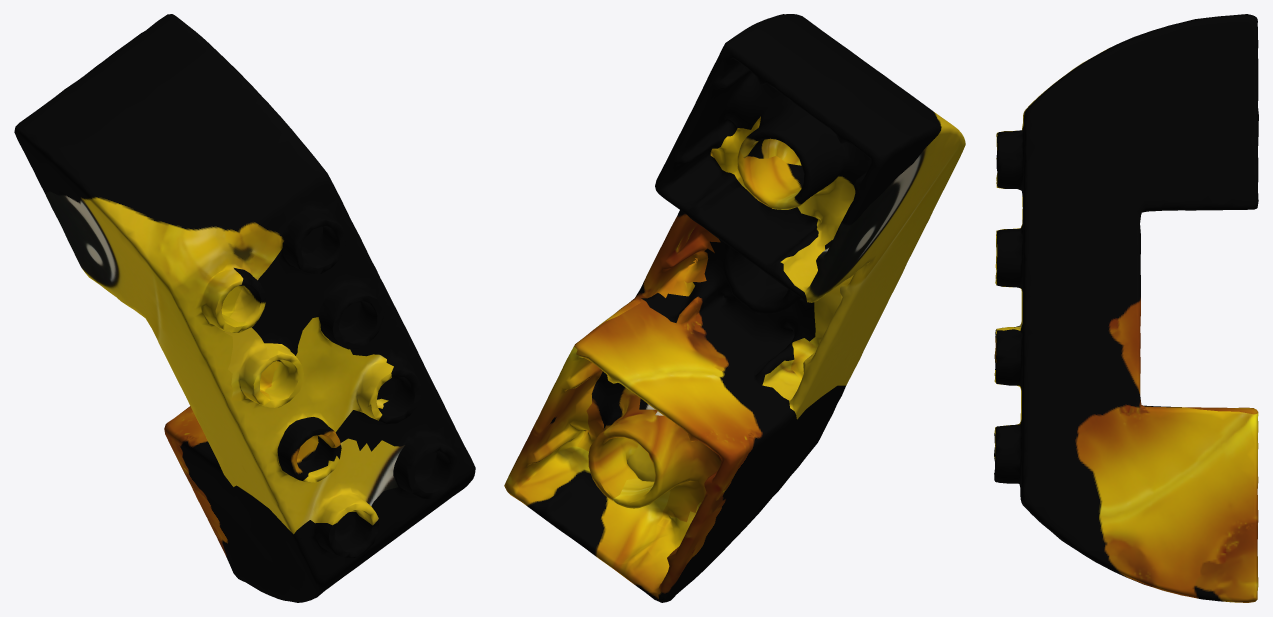
3 views of the same model, side by side, from view 1: azimuth 30°, elevation 25°; view 2: azimuth 150°, elevation 25°; view 3: azimuth 270°, elevation 25° (orthographic). The views are drawn at different scales.
Bounding box in the file's own units: 0.0689 × 0.0998 × 0.0432.
